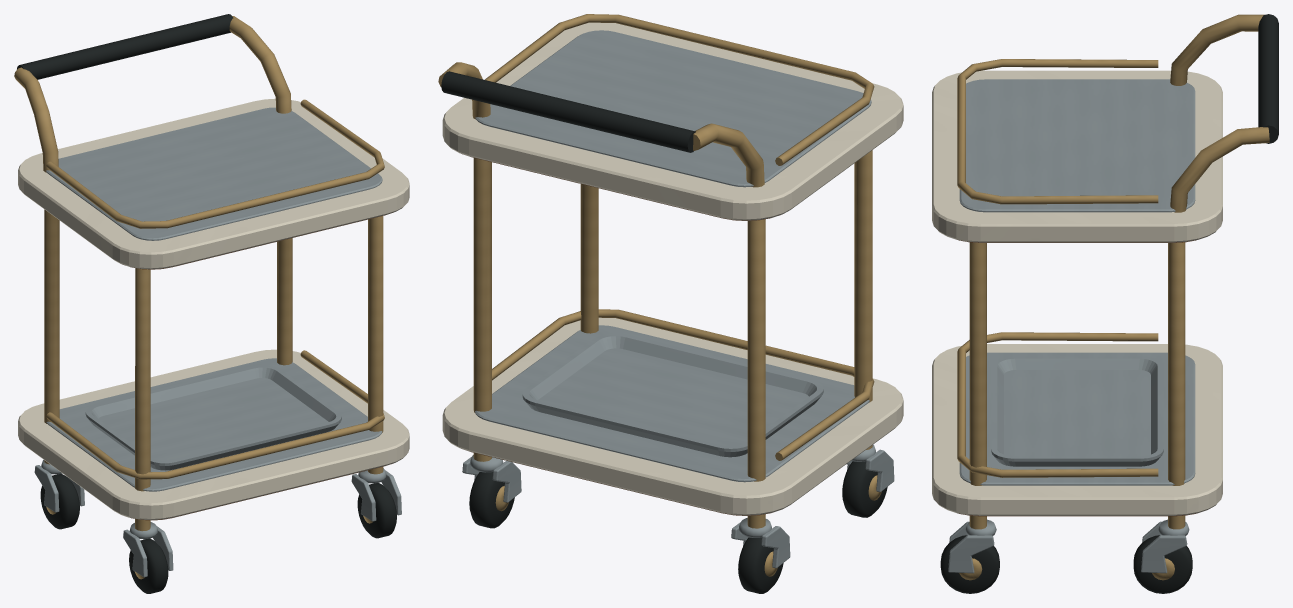
The model's file is AST-HSP-006.glb.
The picture shows the model from 3 angles, left to right: view 1: azimuth 30°, elevation 25°; view 2: azimuth 150°, elevation 25°; view 3: azimuth 270°, elevation 25°; orthographic projection. The views are drawn at different scales.
Parts seen in each view (by area): view 1: 006_fixed_chassis__ivory_enamel, 006_fixed_chassis__staff_zinc, 006_fixed_chassis__champagne_metal, 006_context_lower_tray__staff_zinc, 006_fixed_chassis__dark_rubber, 006_left_front_swivel__staff_zinc, 006_left_front_axle__dark_rubber, 006_left_rear_axle__dark_rubber, 006_right_front_axle__dark_rubber, 006_right_front_swivel__staff_zinc, 006_left_rear_swivel__staff_zinc; view 2: 006_fixed_chassis__ivory_enamel, 006_fixed_chassis__staff_zinc, 006_fixed_chassis__champagne_metal, 006_context_lower_tray__staff_zinc, 006_fixed_chassis__dark_rubber, 006_right_rear_axle__dark_rubber, 006_left_front_axle__dark_rubber, 006_left_rear_axle__dark_rubber, 006_left_rear_swivel__staff_zinc, 006_right_rear_swivel__staff_zinc, 006_left_front_swivel__staff_zinc; view 3: 006_fixed_chassis__ivory_enamel, 006_fixed_chassis__staff_zinc, 006_fixed_chassis__champagne_metal, 006_context_lower_tray__staff_zinc, 006_fixed_chassis__dark_rubber, 006_right_rear_axle__dark_rubber, 006_right_front_axle__dark_rubber, 006_right_front_swivel__staff_zinc, 006_right_rear_swivel__staff_zinc, 006_fixed_chassis__warm_walnut.
Part boxes in pixels (x1,y1,x2,y2): 006_fixed_chassis__ivory_enamel: (18, 98, 409, 520); 006_fixed_chassis__staff_zinc: (46, 107, 382, 491); 006_fixed_chassis__champagne_metal: (14, 16, 384, 531); 006_context_lower_tray__staff_zinc: (85, 365, 341, 470); 006_fixed_chassis__dark_rubber: (17, 14, 233, 79); 006_left_front_swivel__staff_zinc: (123, 522, 173, 577); 006_left_front_axle__dark_rubber: (129, 538, 168, 593); 006_left_rear_axle__dark_rubber: (40, 474, 79, 529); 006_right_front_axle__dark_rubber: (357, 483, 396, 538); 006_right_front_swivel__staff_zinc: (351, 468, 401, 521); 006_left_rear_swivel__staff_zinc: (34, 460, 84, 512); 006_fixed_chassis__ivory_enamel: (442, 22, 903, 515); 006_fixed_chassis__staff_zinc: (475, 30, 871, 482); 006_fixed_chassis__champagne_metal: (438, 14, 874, 528); 006_context_lower_tray__staff_zinc: (522, 333, 823, 457); 006_fixed_chassis__dark_rubber: (441, 71, 695, 152); 006_right_rear_axle__dark_rubber: (469, 472, 514, 528); 006_left_front_axle__dark_rubber: (842, 461, 887, 517); 006_left_rear_axle__dark_rubber: (738, 537, 783, 593); 006_left_rear_swivel__staff_zinc: (731, 518, 790, 568); 006_right_rear_swivel__staff_zinc: (462, 455, 521, 502); 006_left_front_swivel__staff_zinc: (846, 444, 894, 492); 006_fixed_chassis__ivory_enamel: (932, 70, 1222, 515); 006_fixed_chassis__staff_zinc: (959, 79, 1195, 485); 006_fixed_chassis__champagne_metal: (957, 14, 1269, 529); 006_context_lower_tray__staff_zinc: (991, 356, 1163, 466); 006_fixed_chassis__dark_rubber: (1258, 14, 1278, 143); 006_right_rear_axle__dark_rubber: (1133, 535, 1192, 593); 006_right_front_axle__dark_rubber: (940, 535, 999, 593); 006_right_front_swivel__staff_zinc: (948, 519, 996, 573); 006_right_rear_swivel__staff_zinc: (1141, 519, 1189, 573); 006_fixed_chassis__warm_walnut: (959, 240, 1195, 516).
Size of the model in its own units: 0.68 by 0.944 by 0.644.
5 materials, 5 textured.
